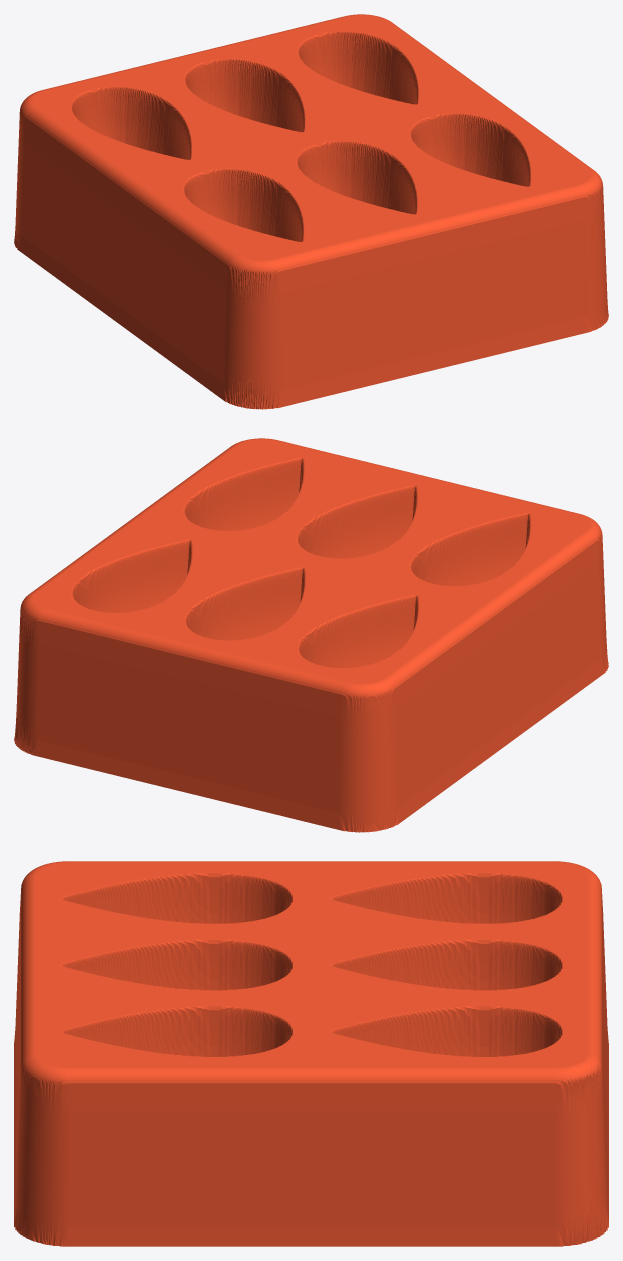
Rendered from mold.glb.
3 views of the same model, one above another, from view 1: azimuth 30°, elevation 25°; view 2: azimuth 150°, elevation 25°; view 3: azimuth 270°, elevation 25° (orthographic). The views are drawn at different scales.
Parts seen in each view (by area): view 1: geometry_0; view 2: geometry_0; view 3: geometry_0.
Part boxes in pixels (bbox=[...]): geometry_0: bbox=[14, 14, 608, 409]; geometry_0: bbox=[14, 438, 608, 832]; geometry_0: bbox=[14, 861, 608, 1246].
Size of the model in its own units: 0.0883 by 0.0314 by 0.0996.
